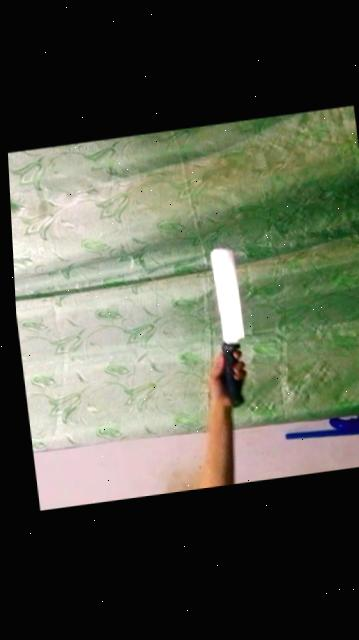long knife: (193, 244, 256, 423)
